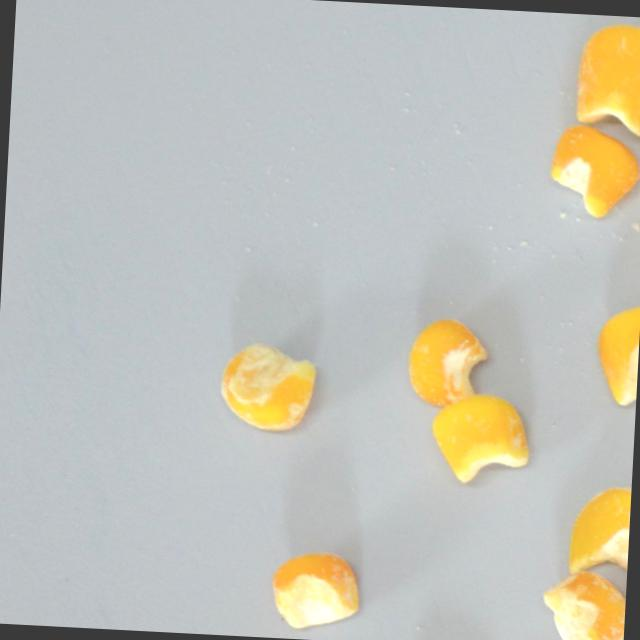no_canjicado: (430, 388, 537, 485), (545, 120, 640, 221), (593, 300, 640, 404)
pelicula: (219, 338, 315, 431), (406, 314, 491, 409), (565, 481, 632, 599), (573, 18, 640, 135), (270, 548, 364, 630), (540, 568, 627, 640)
